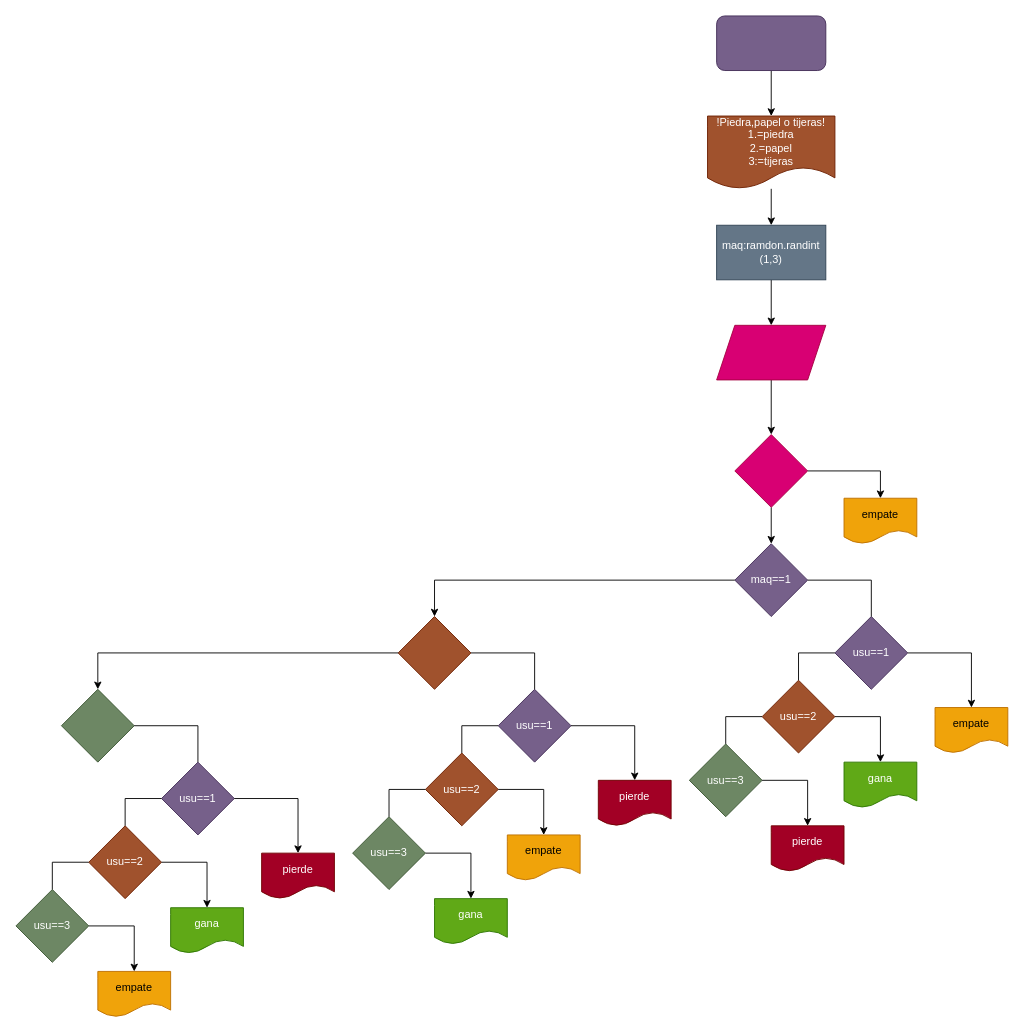
Image size: 1024x1033. Some labels were removed from this diagram. The centre of each missing label's shape, as x and y in pixels:
INICIO: the point at 771,43
maq==2: the point at 434,652
maq==3: the point at 97,725
usu: the point at 771,352
usu <= 4: the point at 771,470
